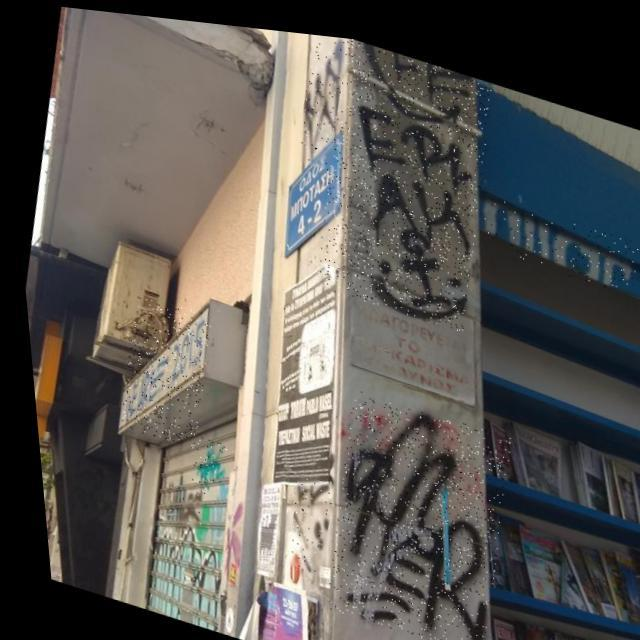-: (292, 26, 511, 326), (299, 376, 519, 640), (102, 286, 216, 448), (471, 182, 639, 282), (285, 25, 355, 165), (270, 466, 331, 570), (379, 626, 572, 640), (179, 430, 224, 488), (167, 479, 199, 528)
